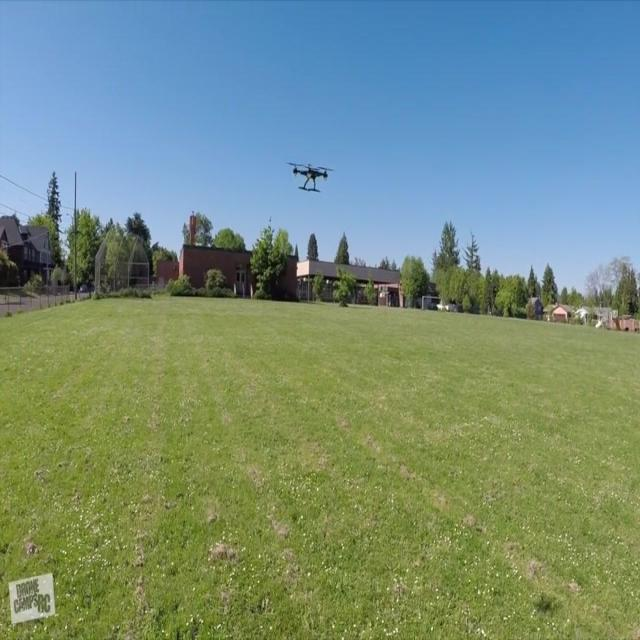drone: (286, 159, 334, 196)
